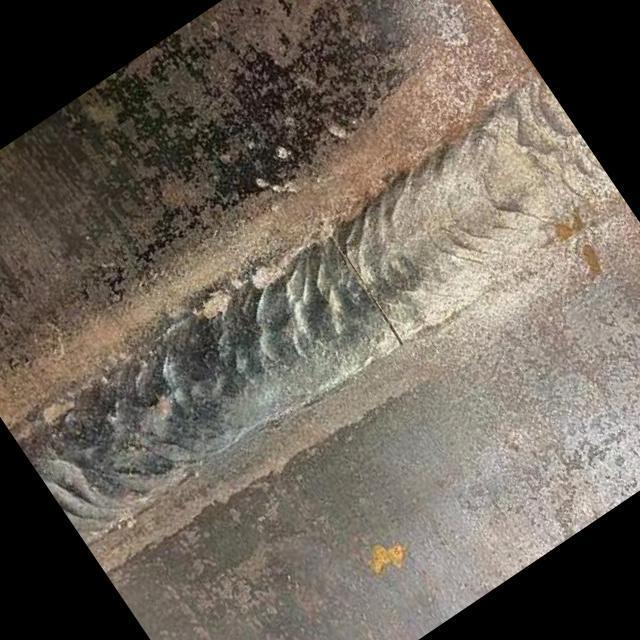defect: (325, 236, 406, 352)
